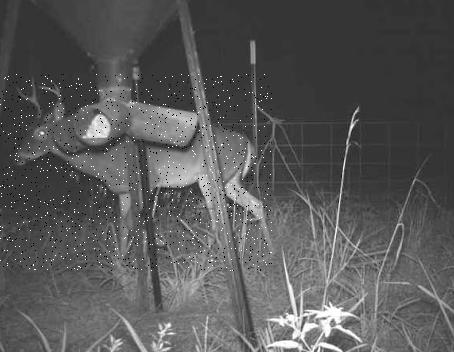Deer: (0, 74, 272, 271)
